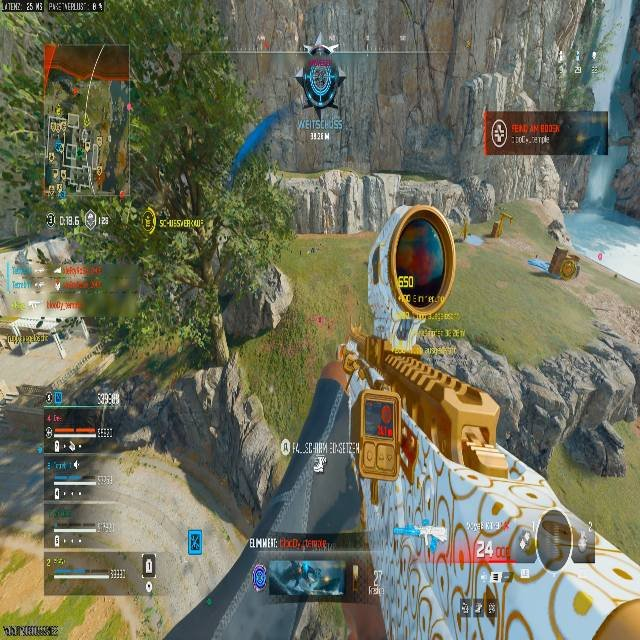head: (550, 218, 559, 227)
